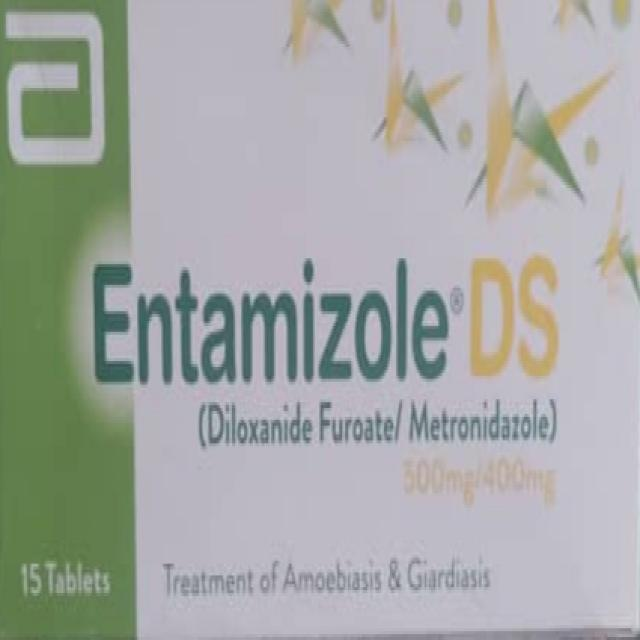drug-name: (88, 256, 570, 386)
